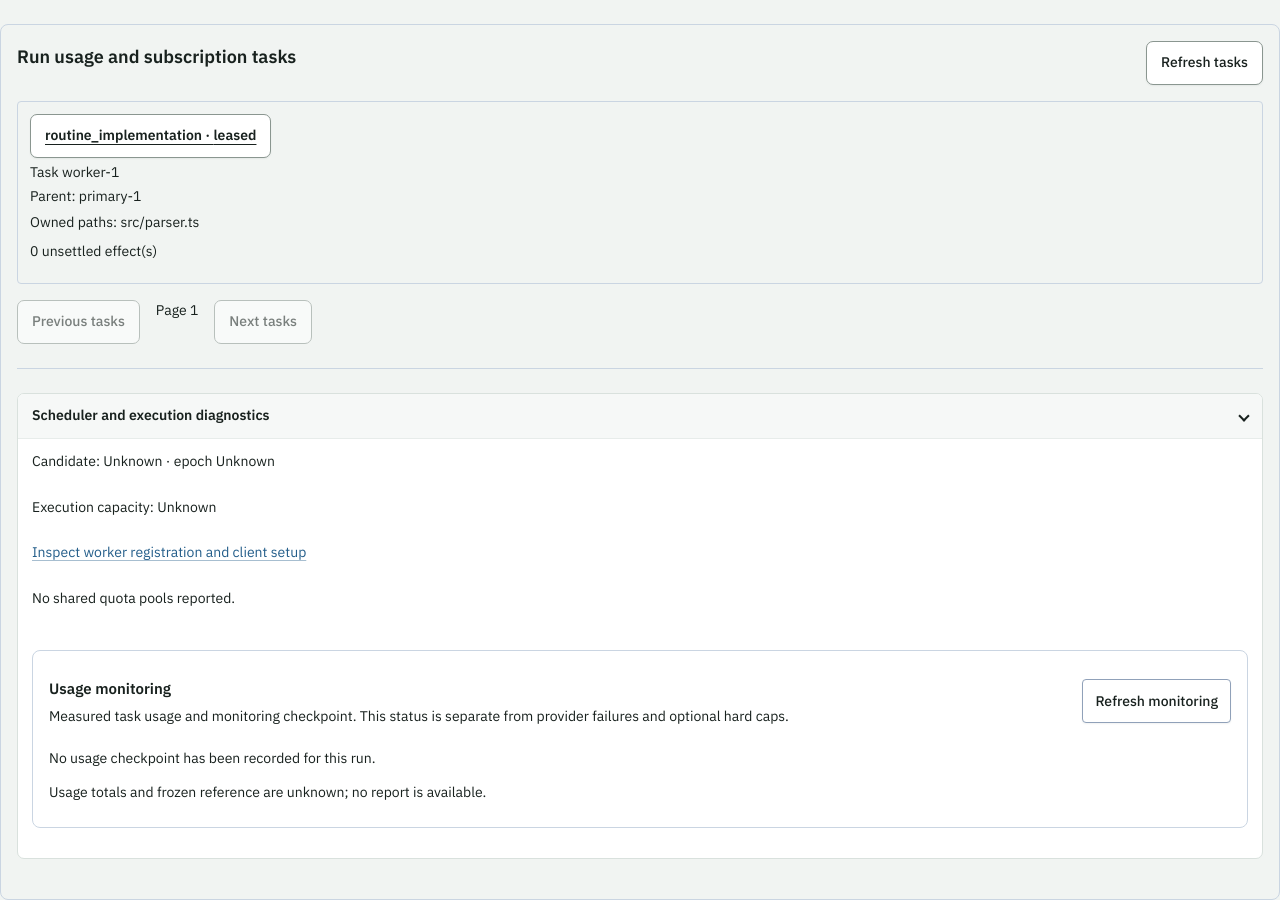
Test case: the selected specialist shows its retained feedback receipt and bounded feedback control
Expected: the text "src/parser.ts" is shown, [120, 213, 199, 231]
Click the button with aria-label "Inspect routine_implementation task worker-1" at (151, 136), box [30, 114, 272, 158]
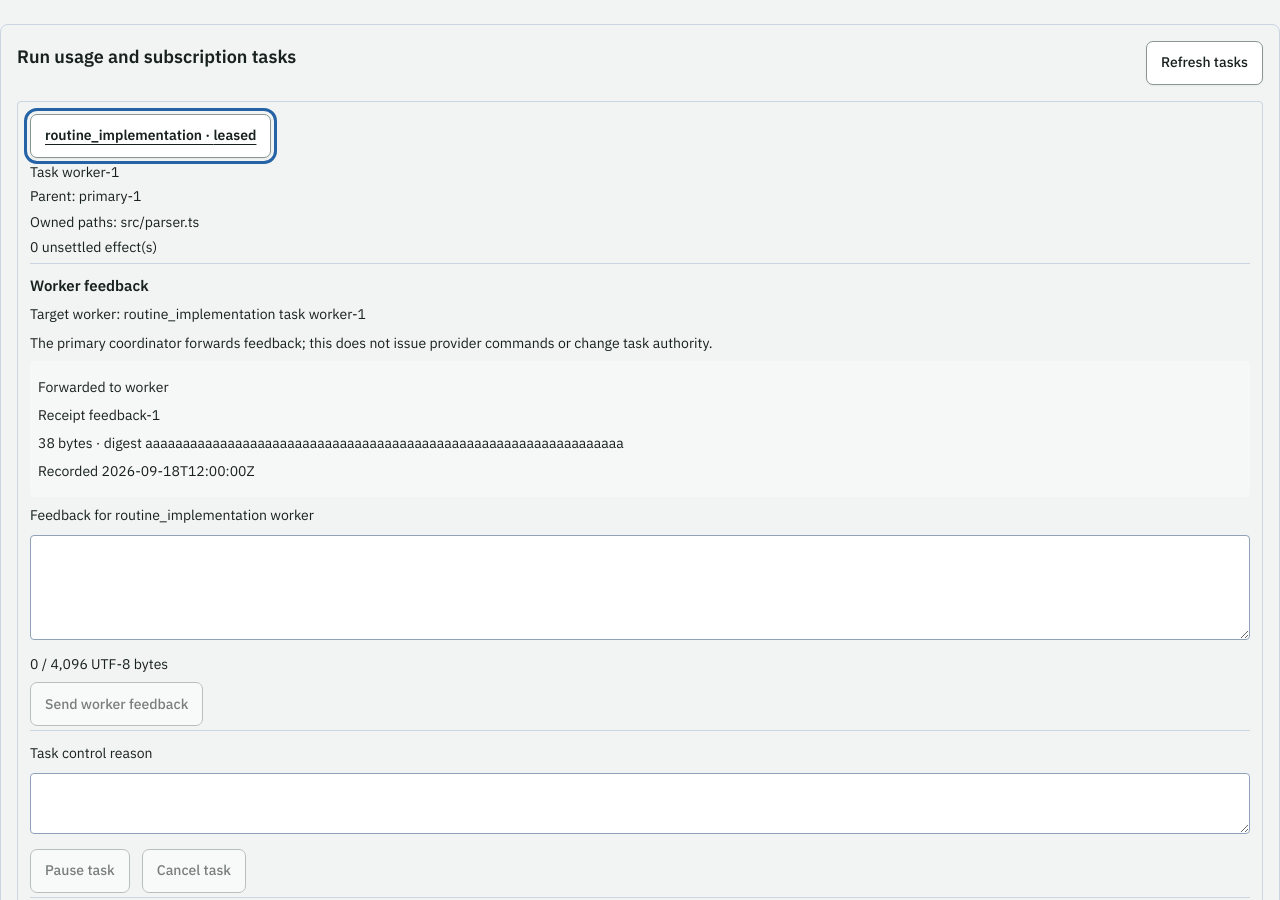
Now the element "Worker feedback" shows "Target worker: routine_implementation task worker-1", box [30, 263, 1250, 726]
Now the element "Worker feedback" shows "Forwarded to worker", box [38, 378, 168, 396]
Now the element "Worker feedback" shows "Receipt feedback-1", box [30, 263, 1250, 726]
